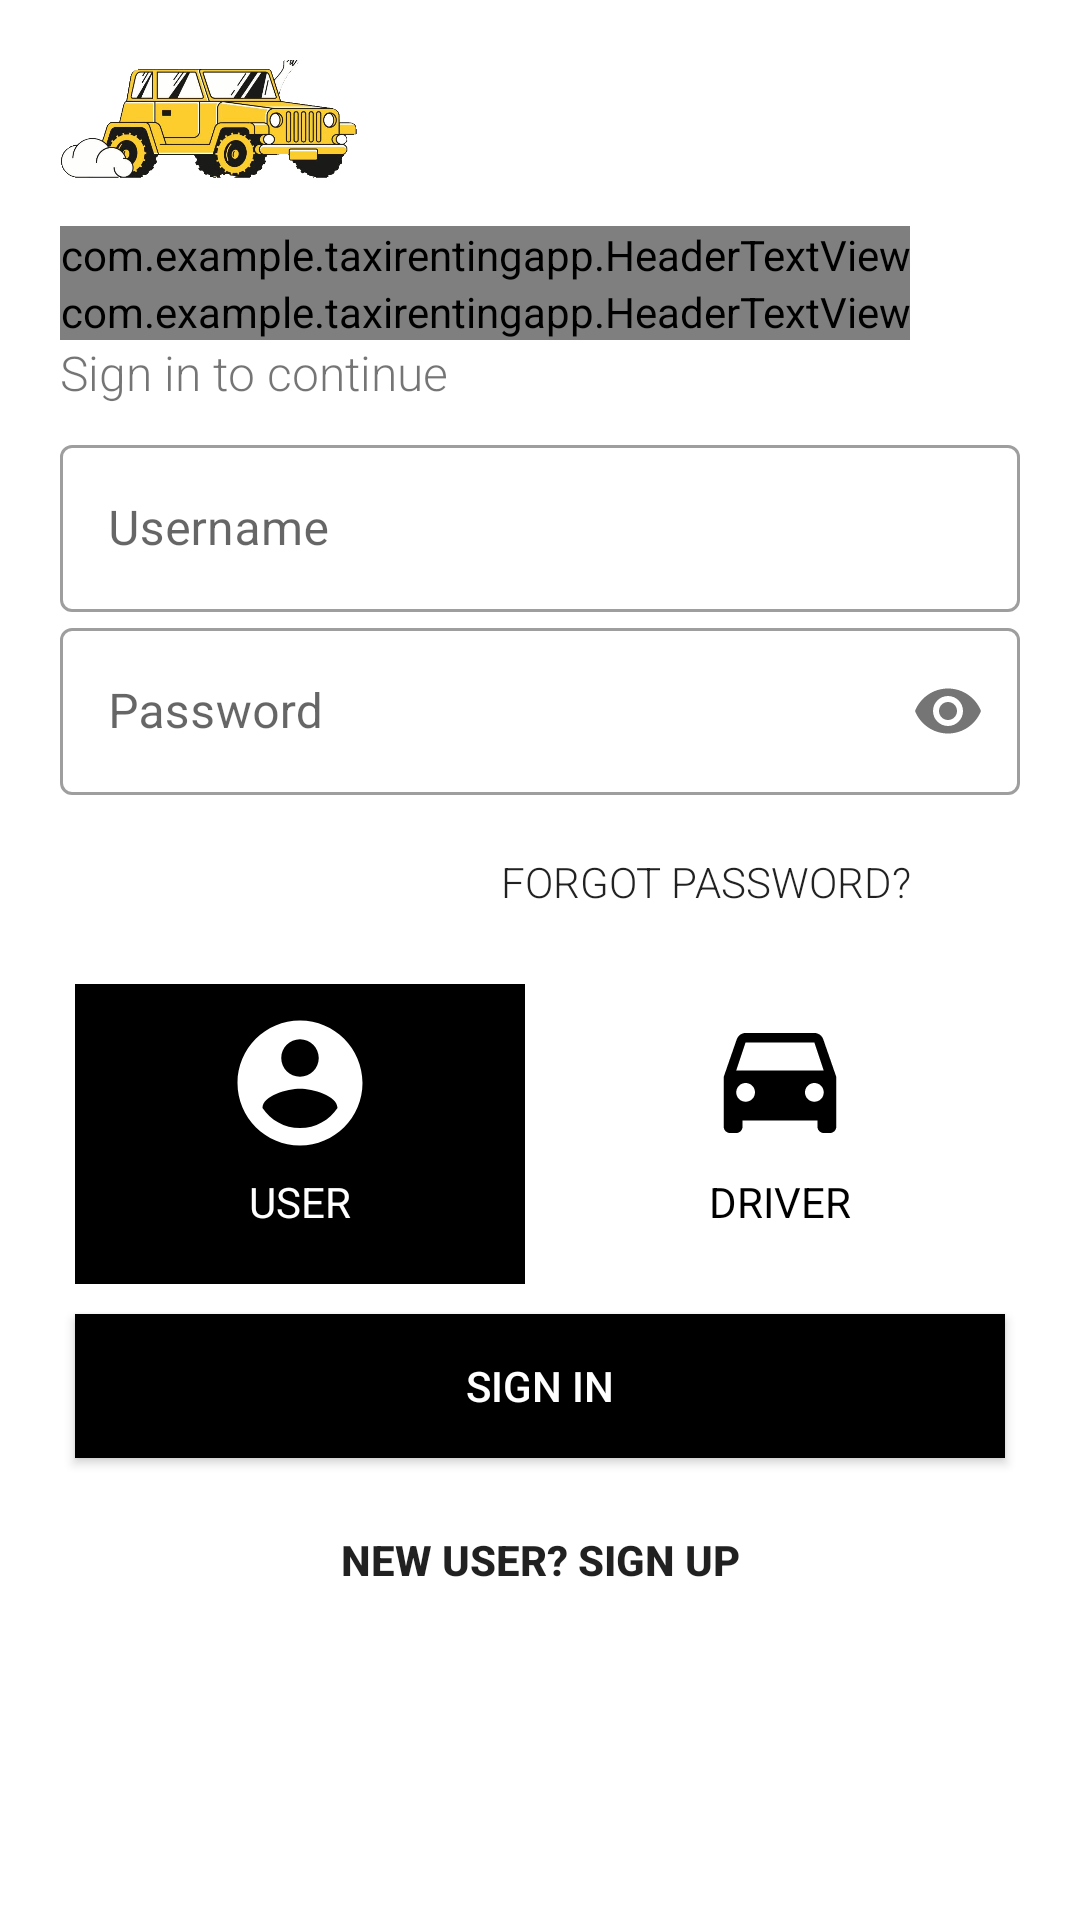

Icons on this 1080px x 1920px Android screen, each with its box as [x1=x1, y1=y1, x2=x2, y2=y2]:
account circle: [x1=237, y1=1020, x2=363, y2=1146]
drive eta: [x1=723, y1=1033, x2=837, y2=1133]
